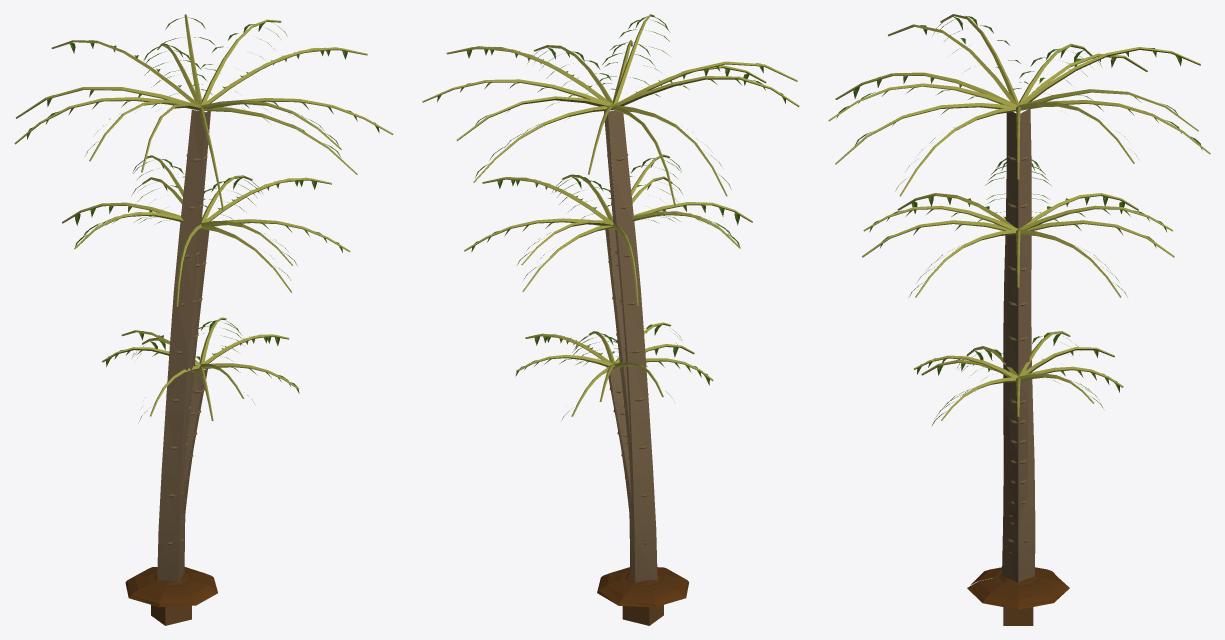
The model's file is coconut.glb.
3 renders of one model, left to right at view 1: azimuth 30°, elevation 25°; view 2: azimuth 150°, elevation 25°; view 3: azimuth 270°, elevation 25°, orthographic. The views are drawn at different scales.
Visible parts, largest first — view 1: stage4_bark, stage4_stem, stage3_stem, stage2_soil, stage4_l1_stem, stage3_bark, stage2_stem, stage2_bark, stage3_l1_stem, stage4_leaf, stage3_leaf, fruit_fruitMatte (+1 smaller); view 2: stage4_bark, stage4_stem, stage3_stem, stage2_soil, stage4_l1_stem, stage3_bark, stage2_stem, stage2_bark, stage3_l1_stem, stage4_leaf, stage3_leaf, fruit_fruitMatte (+1 smaller); view 3: stage4_bark, stage4_stem, stage3_bark, stage3_stem, stage2_soil, stage2_bark, stage4_l1_stem, stage2_stem, stage3_l1_stem, stage4_leaf, stage3_leaf, stage2_l1_stem (+2 smaller).
Boxes of the visible parts, x1,y1,x2,y2 form: stage4_bark: [157, 110, 210, 581]; stage4_stem: [14, 19, 393, 210]; stage3_stem: [62, 155, 350, 306]; stage2_soil: [125, 567, 217, 607]; stage4_l1_stem: [15, 14, 367, 174]; stage3_bark: [169, 228, 209, 555]; stage2_stem: [102, 317, 299, 416]; stage2_bark: [181, 369, 207, 523]; stage3_l1_stem: [77, 177, 331, 292]; stage4_leaf: [27, 22, 379, 155]; stage3_leaf: [75, 158, 342, 265]; fruit_fruitMatte: [151, 605, 191, 625]; stage4_bark: [604, 110, 657, 582]; stage4_stem: [422, 14, 799, 196]; stage3_stem: [464, 154, 752, 305]; stage2_soil: [597, 567, 689, 607]; stage4_l1_stem: [447, 40, 797, 207]; stage3_bark: [605, 228, 634, 551]; stage2_stem: [516, 322, 713, 416]; stage2_bark: [606, 367, 631, 522]; stage3_l1_stem: [482, 176, 738, 292]; stage4_leaf: [437, 16, 785, 189]; stage3_leaf: [471, 156, 739, 264]; fruit_fruitMatte: [622, 605, 663, 625]; stage4_bark: [1002, 109, 1035, 582]; stage4_stem: [828, 14, 1210, 196]; stage3_bark: [1005, 234, 1030, 553]; stage3_stem: [863, 193, 1173, 297]; stage2_soil: [967, 567, 1069, 609]; stage2_bark: [1007, 380, 1028, 524]; stage4_l1_stem: [835, 24, 1198, 179]; stage2_stem: [913, 331, 1123, 420]; stage3_l1_stem: [862, 220, 1174, 287]; stage4_leaf: [836, 16, 1202, 191]; stage3_leaf: [869, 158, 1166, 297]; stage2_l1_stem: [921, 347, 1114, 416].
Bounding box in the file's own units: 1.9 × 3.1 × 1.9.
